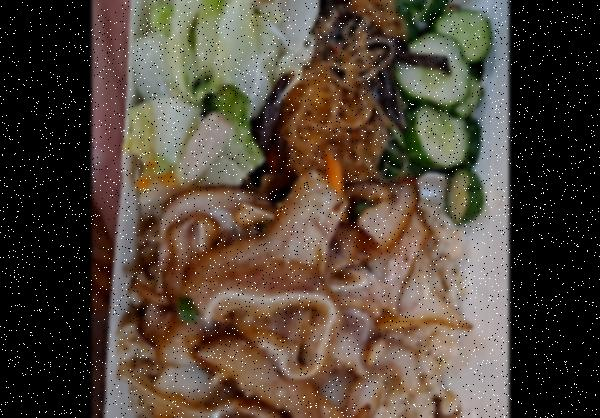big grilled chicken leg: (100, 0, 490, 418)
box: (119, 188, 476, 418)
braised fish fillet: (144, 0, 274, 186), (282, 0, 399, 185), (392, 0, 487, 193)
braised pork: (136, 184, 394, 414)
